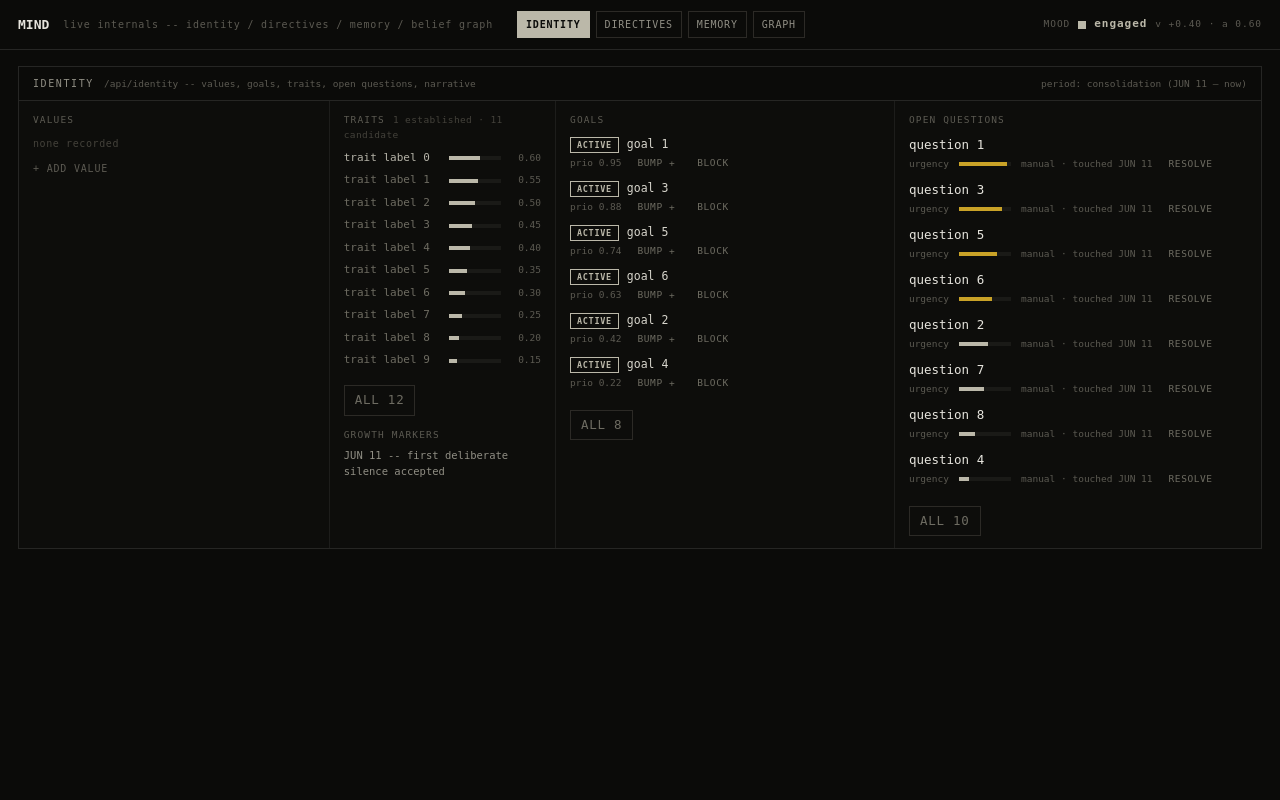
Mind page › renders identity lists sorted with preview caps and toggles
The width and height of the screenshot is (1280, 800).
Expected: the text "none recorded" is shown, top-left (33, 138), bottom-right (119, 148)
Expected: the text "1 established · 11 candidate" is shown, top-left (344, 114), bottom-right (503, 140)
Click the button "ALL 12". click: (380, 400)
box: top-left (344, 385), bottom-right (416, 416)
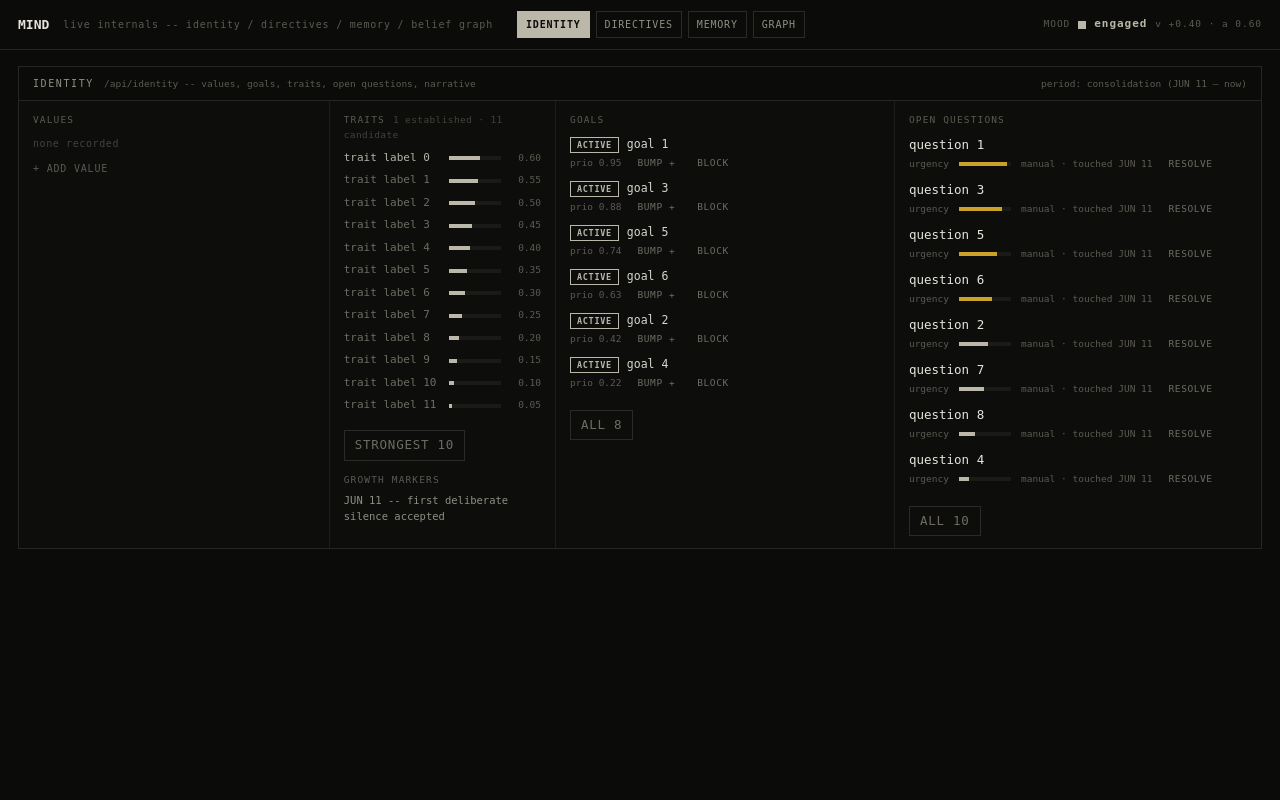
Now the text "trait label 11" is shown, box top-left (344, 397), bottom-right (441, 414)
Click the button "STRONGEST 10". click: (404, 445)
box: top-left (344, 430), bottom-right (465, 461)
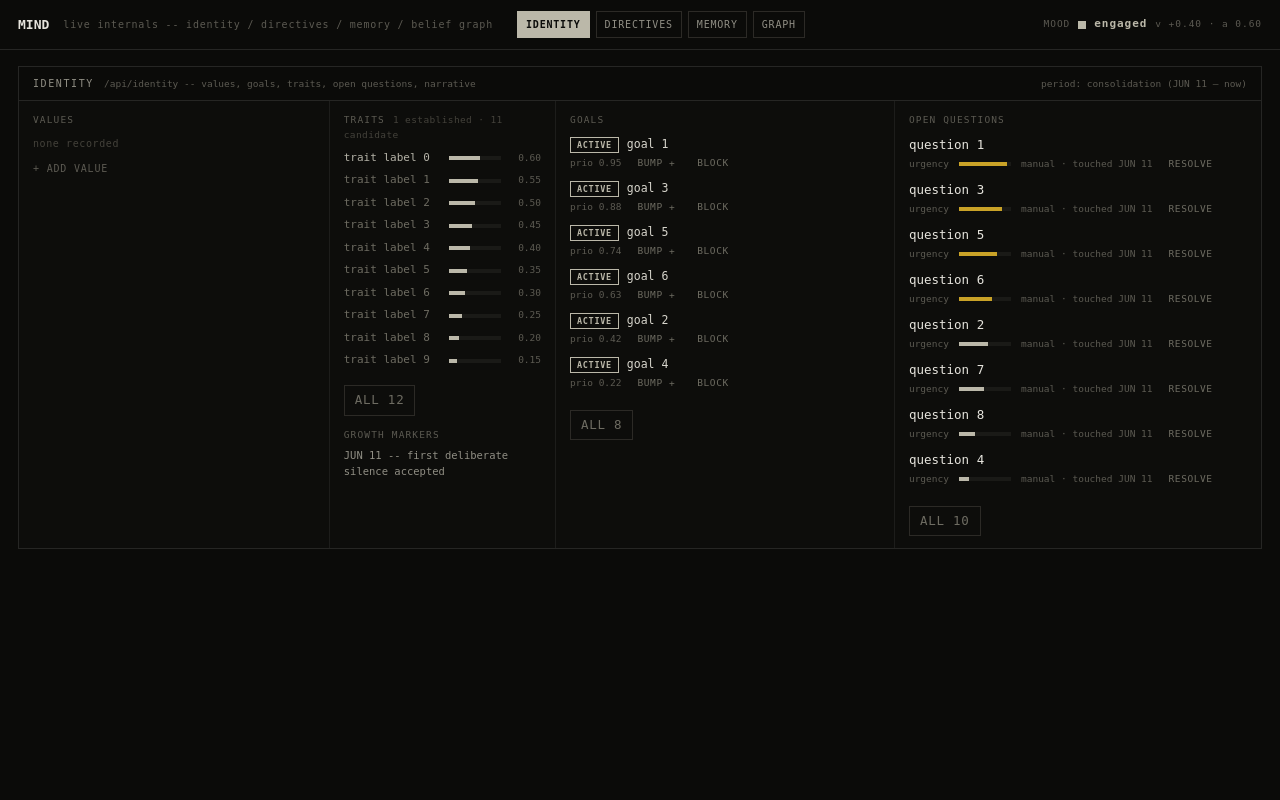
Expected: the elements "goal " read "goal 1", "goal 3", "goal 5", "goal 6", "goal 2", "goal 4", in this order, top-left (627, 136), bottom-right (668, 150); top-left (627, 180), bottom-right (668, 194); top-left (627, 224), bottom-right (668, 238); top-left (627, 268), bottom-right (668, 282); top-left (627, 312), bottom-right (668, 326); top-left (627, 356), bottom-right (668, 370)
Now the text "trait label 11" is gone
Click the button "ALL 8". click: (602, 425)
box: top-left (570, 410), bottom-right (633, 440)
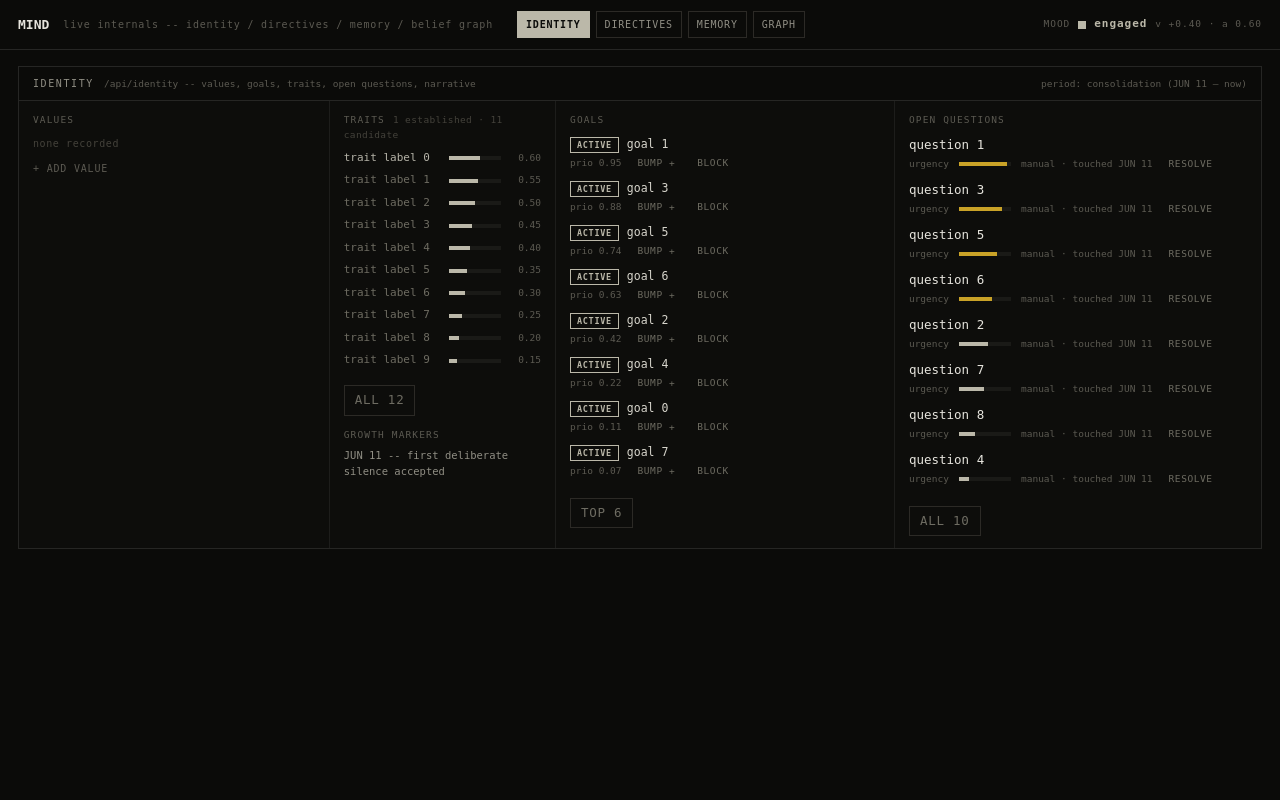
Now the text "goal 7" is shown, box top-left (627, 444), bottom-right (668, 458)
Click the button "TOP 6". click: (602, 513)
box: top-left (570, 498), bottom-right (633, 528)
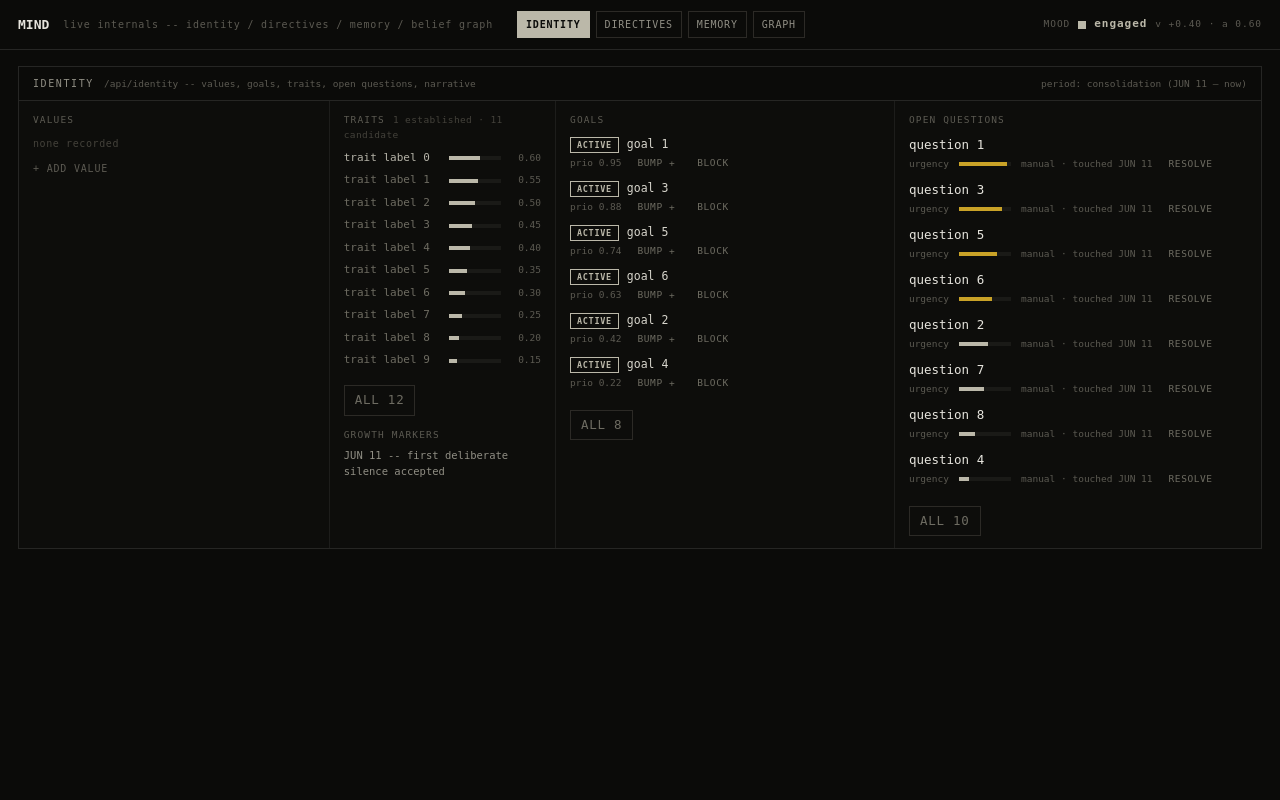
Expected: the text "question 9" is not shown
Now the text "goal 7" is gone
Click the button "ALL 10". click: (945, 521)
box: top-left (909, 506), bottom-right (981, 536)
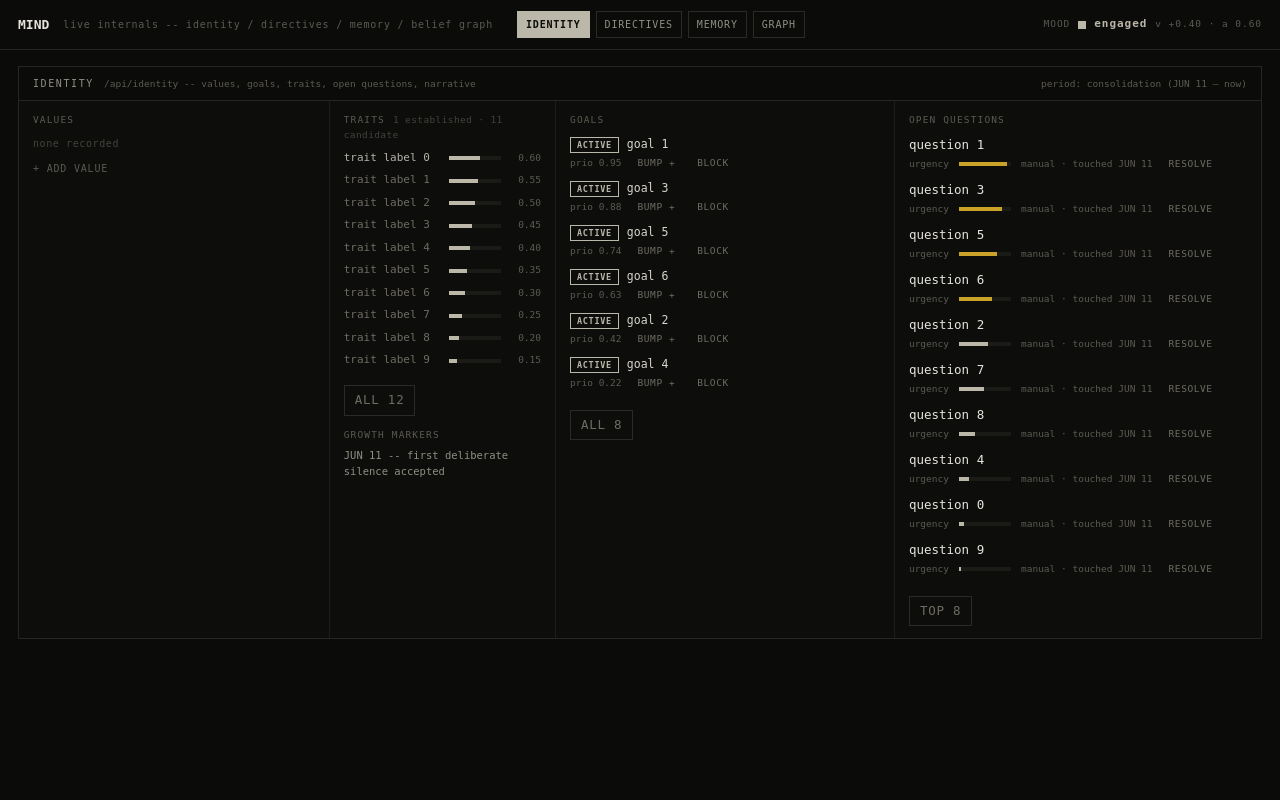
Now the text "question 9" is shown, box top-left (909, 542), bottom-right (984, 556)
Click the button "TOP 8". click: (941, 611)
box: top-left (909, 596), bottom-right (972, 626)
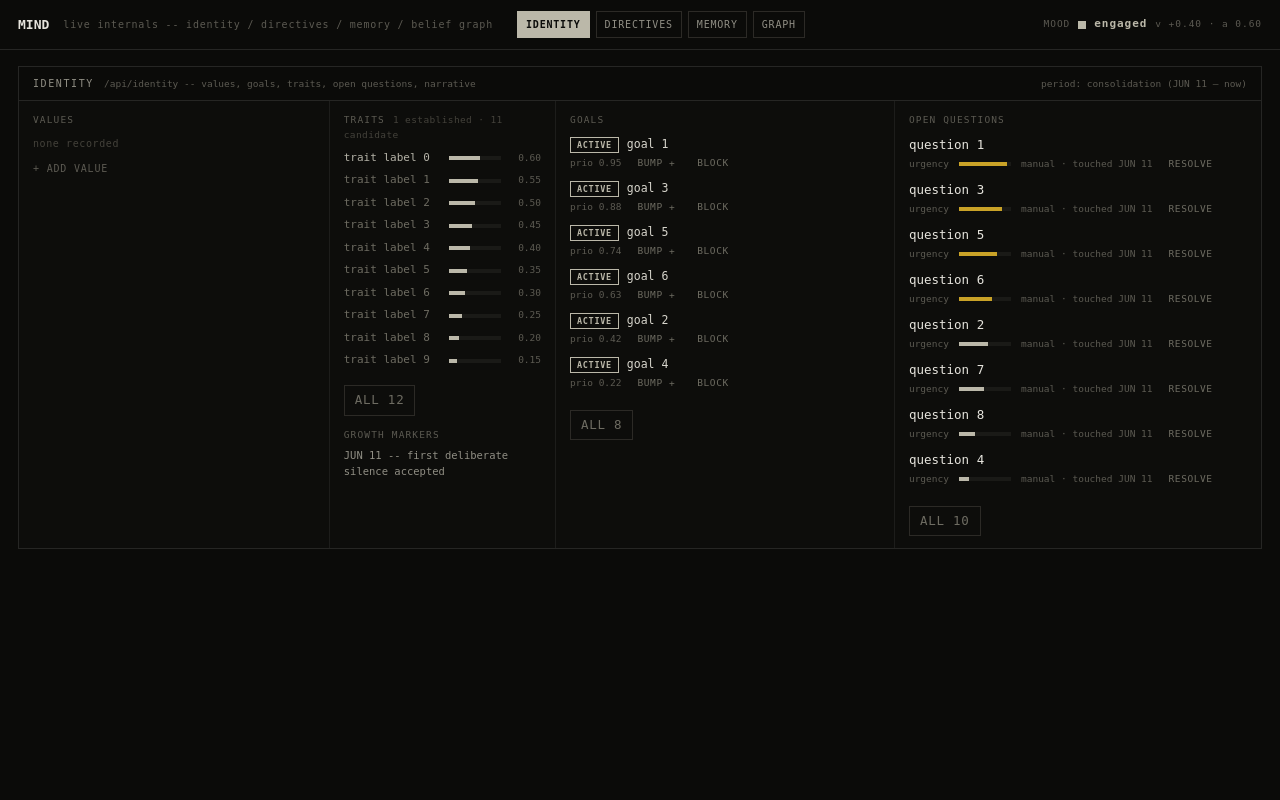
Now the text "question 9" is gone
